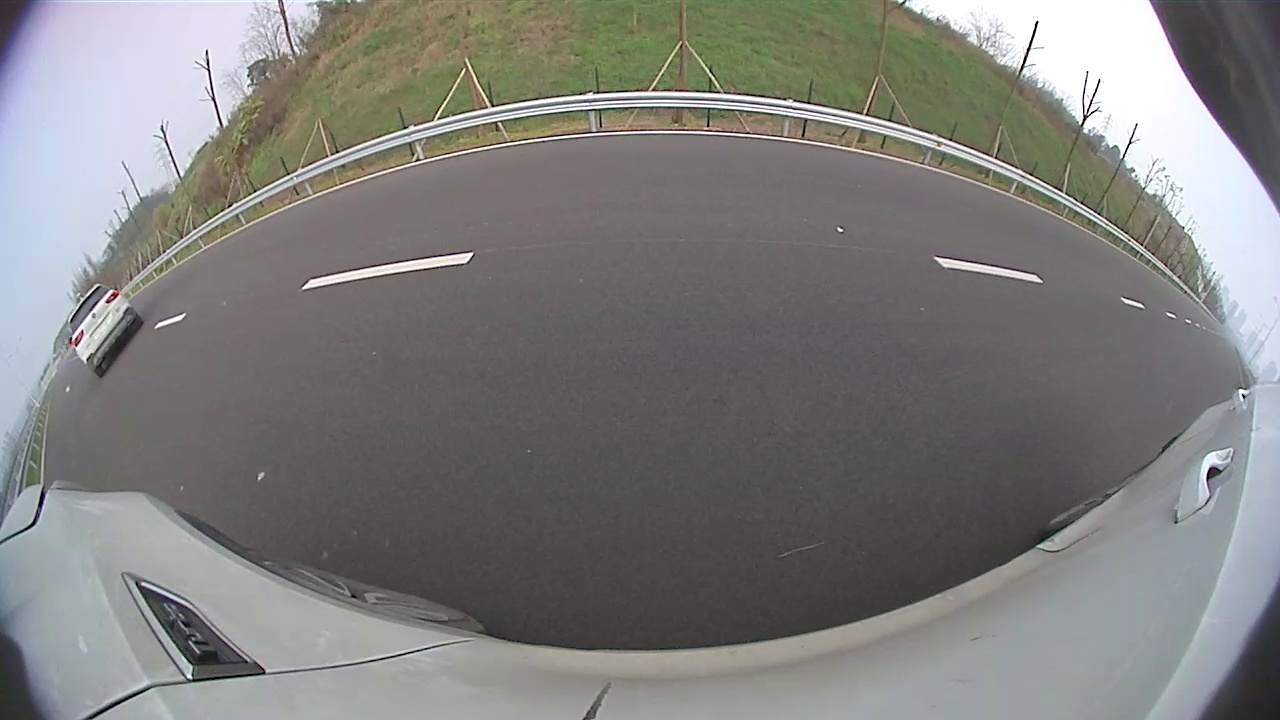car: (65, 282, 143, 379)
